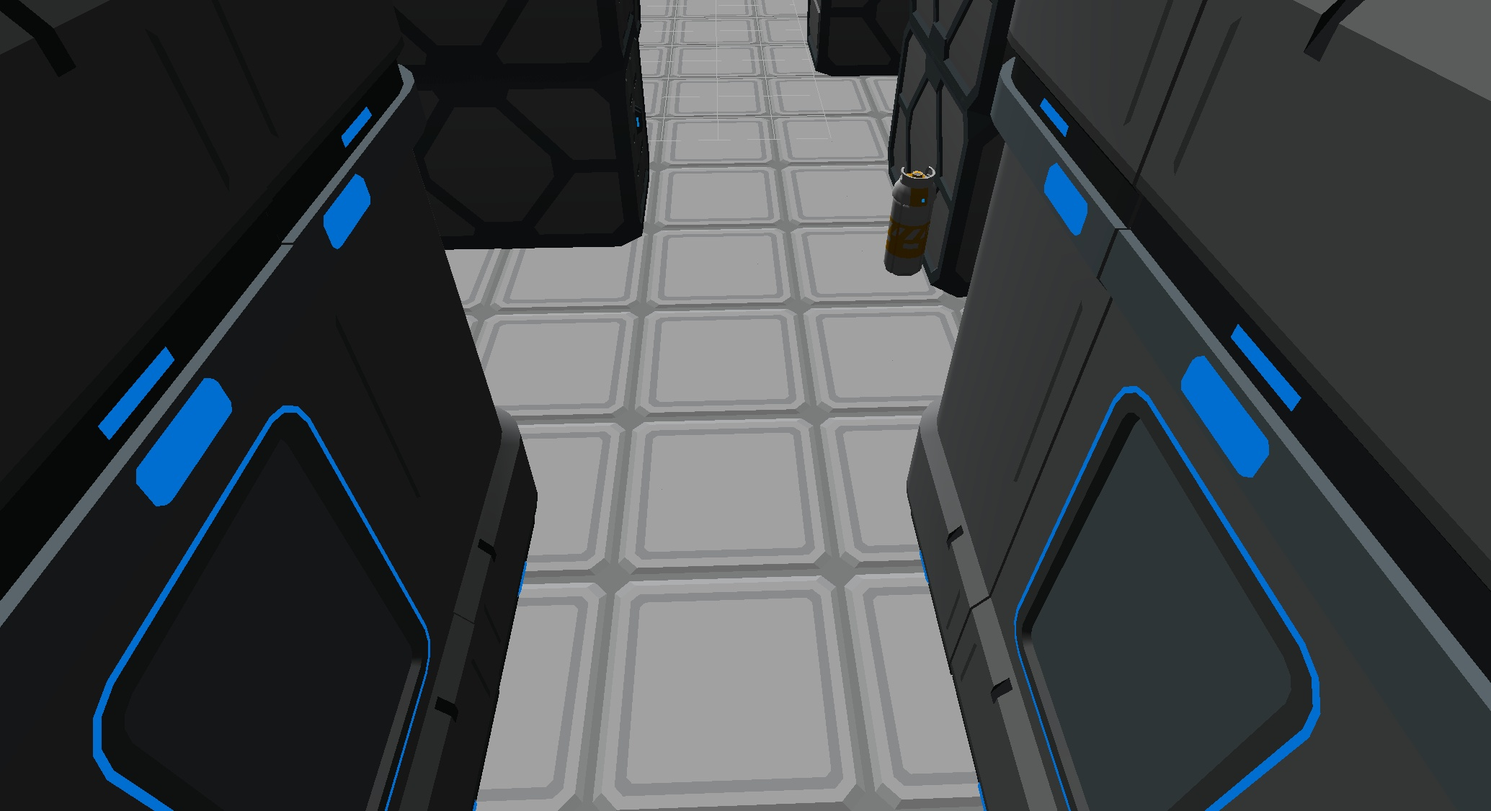yellow_barrel: (885, 168, 938, 275)
